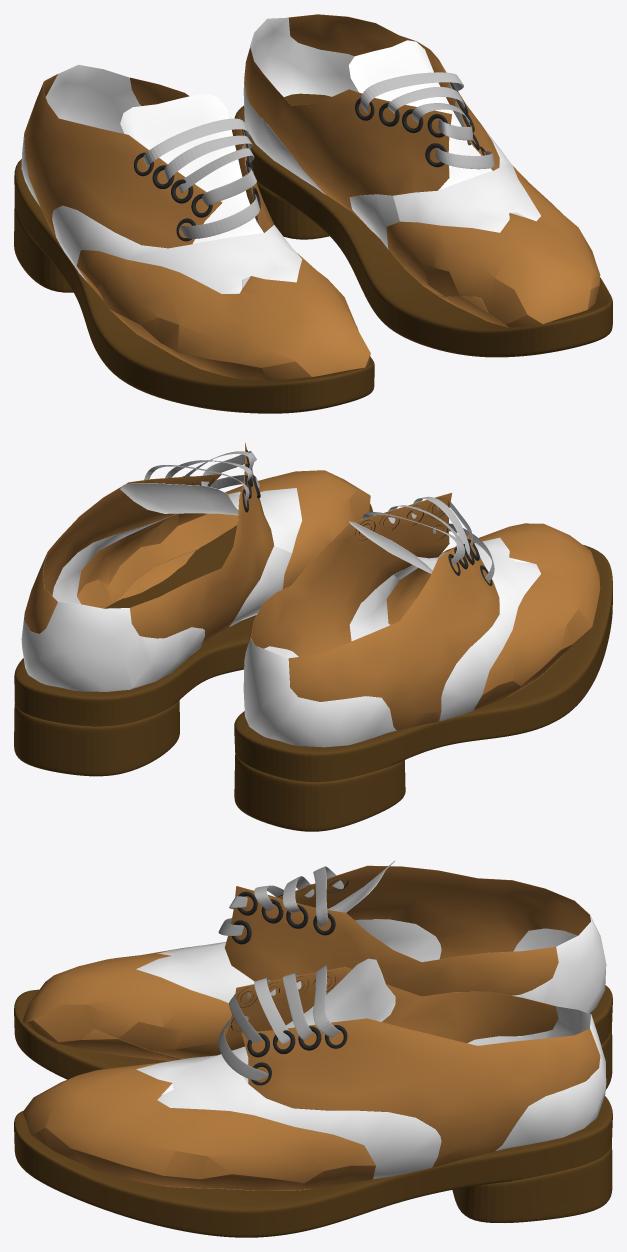
3 views of the same model, one above another, from view 1: azimuth 30°, elevation 25°; view 2: azimuth 150°, elevation 25°; view 3: azimuth 270°, elevation 25° (orthographic).
Parts seen in each view (by area): view 1: zapato2.001, zapato2, Plane, Plane.011, Plane.007, Plane.004, Plane.006, Plane.008, Plane.003, Plane.010, Plane.009, Plane.005; view 2: zapato2.001, zapato2, Plane.011, Plane, Plane.010; view 3: zapato2, zapato2.001, Plane, Plane.011, Plane.001, Plane.003, Plane.004, Plane.007, Plane.005, Plane.008, Plane.002.
Part boxes in pixels (box(x1,y1,x2,y2)): zapato2.001: box(21, 64, 370, 379); zapato2: box(243, 14, 600, 327); Plane: box(234, 93, 612, 357); Plane.011: box(14, 159, 374, 413); Plane.007: box(143, 118, 249, 166); Plane.004: box(360, 72, 463, 113); Plane.006: box(180, 194, 259, 238); Plane.008: box(164, 135, 252, 181); Plane.003: box(387, 87, 464, 113); Plane.010: box(179, 148, 254, 193); Plane.009: box(201, 167, 256, 206); Plane.005: box(435, 148, 494, 169); zapato2.001: box(243, 493, 600, 747); zapato2: box(21, 442, 370, 691); Plane.011: box(234, 545, 612, 831); Plane: box(14, 503, 373, 776); Plane.010: box(411, 496, 469, 555); zapato2: box(23, 958, 606, 1190); zapato2.001: box(23, 860, 606, 1060); Plane: box(14, 1096, 612, 1237); Plane.011: box(14, 985, 612, 1089); Plane.001: box(254, 978, 290, 1044); Plane.003: box(283, 973, 312, 1040); Plane.004: box(313, 965, 340, 1037); Plane.007: box(313, 866, 343, 926); Plane.005: box(218, 1016, 268, 1080); Plane.008: box(283, 876, 314, 913); Plane.002: box(229, 992, 262, 1042).
Bounding box in the file's own units: 390 × 176 × 447.
